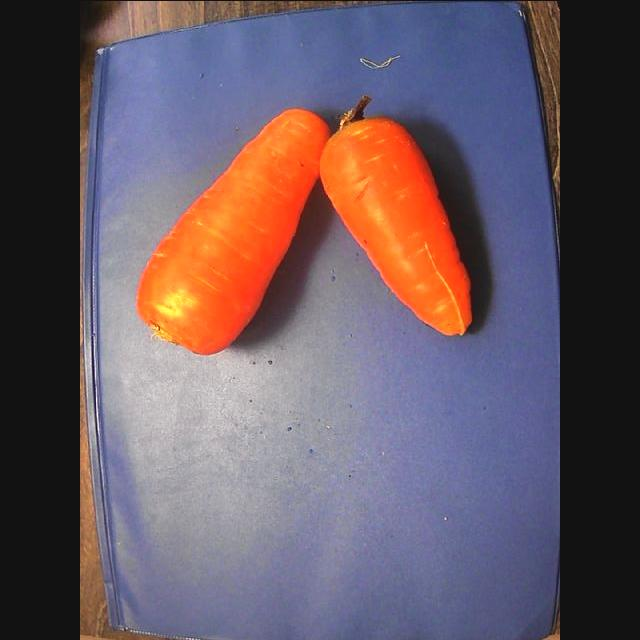zanahoria: (137, 108, 329, 354), (320, 96, 471, 334)
